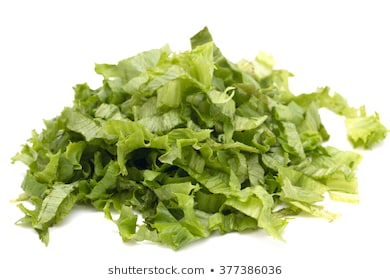chopped lettuce: (54, 53, 349, 227)
